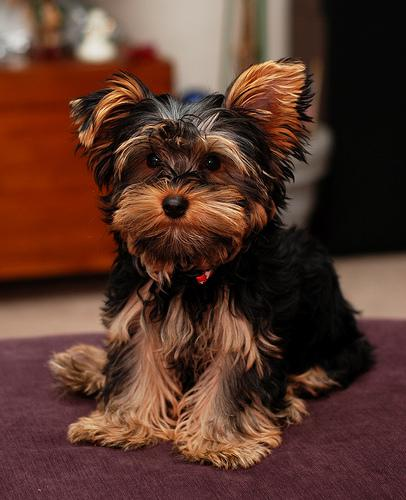dog-yorkshire_terrier: (77, 61, 304, 255)
